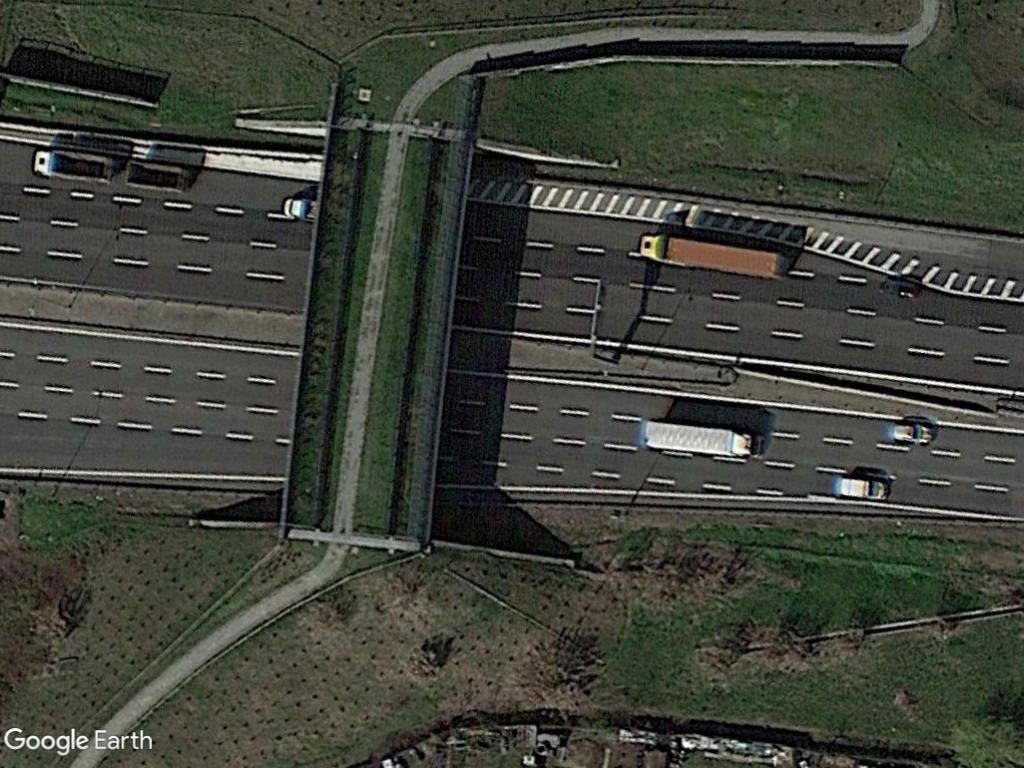car: (833, 471, 893, 500), (889, 420, 938, 445)
longvehicle: (636, 229, 793, 285)
other: (31, 146, 116, 186)
truck: (639, 417, 770, 462)
